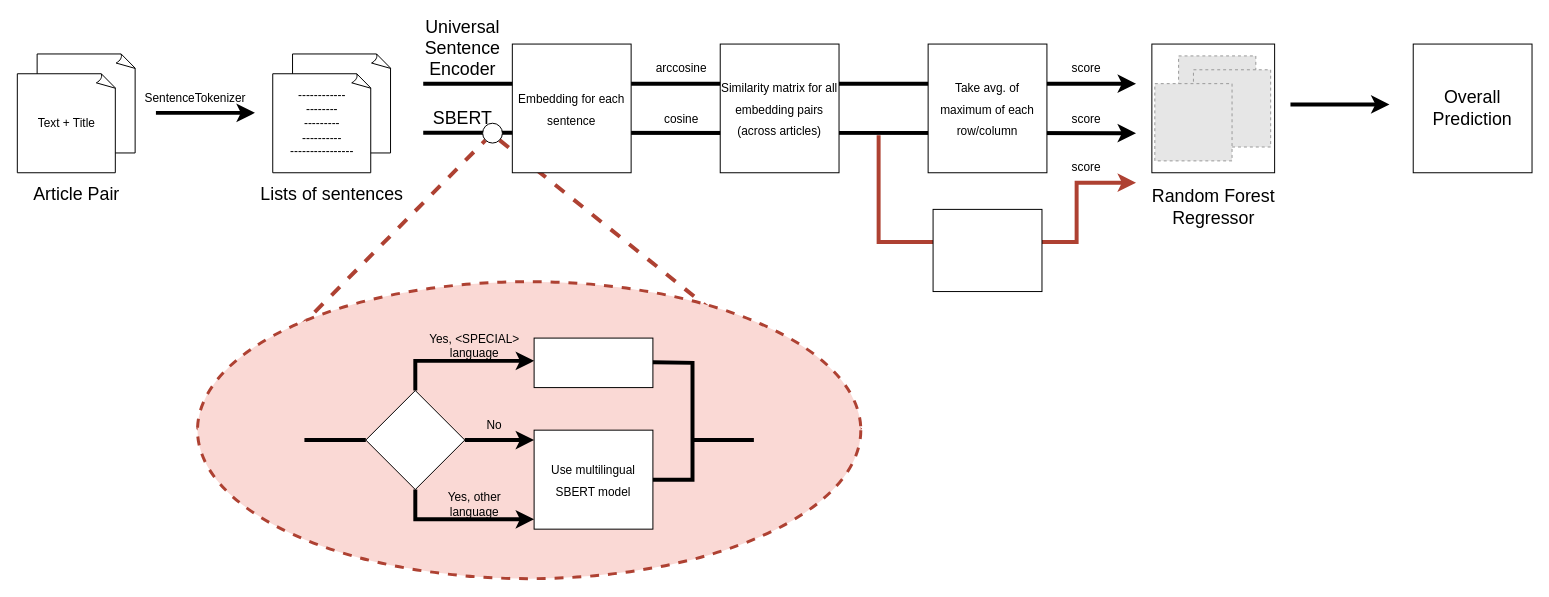
The diagram is 1549 pixels wide and 597 high, and some of its shapes have lost their labels. Grey dashed boxes stand in for pictures. Each missing label, with the centre of its shape:
"Run through TextCNN (Felix)" goes at (x=987, y=250).
"Same Language Pair?" goes at (x=415, y=440).
"Use specialized SBERT model" goes at (x=593, y=362).
